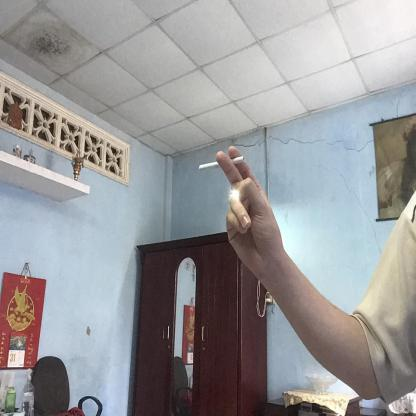cigarette: (196, 158, 220, 174)
